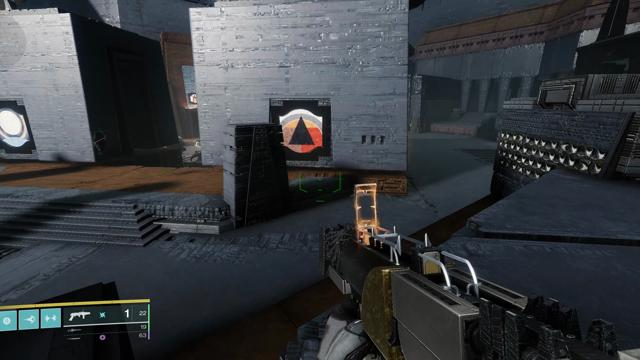pyramid: (279, 109, 323, 153)
traveler: (0, 108, 30, 148)
